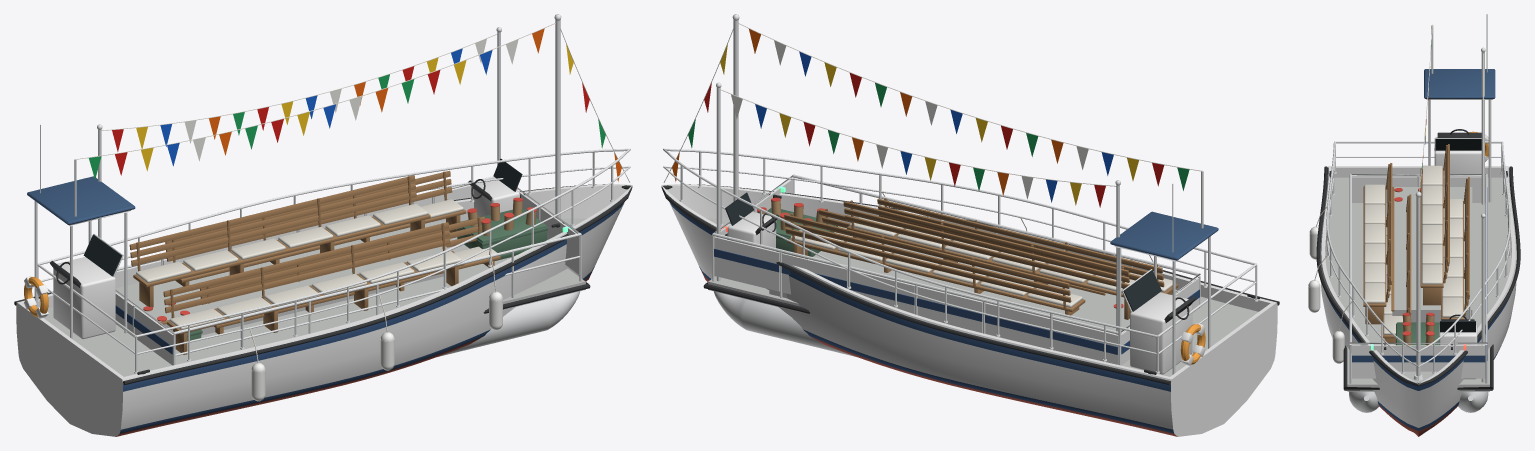
Rendered from spectator_boats.glb.
3 renders of one model, left to right at view 1: azimuth 30°, elevation 25°; view 2: azimuth 150°, elevation 25°; view 3: azimuth 270°, elevation 25°, orthographic. The views are drawn at different scales.
Parts seen in each view (by area): view 1: Launch_Hull, Launch_Teak, Launch_Steel, Pontoon_Teak, Launch_Cushion, Pontoon_HullWhite, Launch_Deck, Pontoon_Steel, Launch_HullWhite, Launch_Flags, Launch_Trim, Launch_Canvas (+10 smaller); view 2: Launch_Hull, Launch_Steel, Pontoon_HullWhite, Launch_Teak, Pontoon_Teak, Pontoon_Steel, Launch_HullWhite, Launch_Deck, Launch_Flags, Launch_Trim, Pontoon_Stripe, Launch_Canvas (+9 smaller); view 3: Launch_Hull, Launch_Steel, Launch_Cushion, Pontoon_HullWhite, Launch_Teak, Launch_Deck, Pontoon_Steel, Pontoon_Cushion, Launch_Trim, Launch_Canvas, Pontoon_Deck, Pontoon_Teak (+10 smaller).
Part boxes in pixels (x1,y1,x2,y2): Launch_Hull: [16, 184, 632, 436]; Launch_Teak: [129, 175, 464, 354]; Launch_Steel: [34, 14, 630, 373]; Pontoon_Teak: [165, 170, 500, 334]; Launch_Cushion: [136, 203, 461, 329]; Pontoon_HullWhite: [114, 177, 579, 365]; Launch_Deck: [115, 227, 451, 335]; Pontoon_Steel: [97, 27, 581, 365]; Launch_HullWhite: [24, 257, 115, 339]; Launch_Flags: [88, 28, 621, 181]; Launch_Trim: [14, 184, 632, 384]; Launch_Canvas: [27, 176, 135, 224]; Launch_Hull: [661, 184, 1277, 436]; Launch_Steel: [663, 14, 1258, 374]; Pontoon_HullWhite: [714, 179, 1199, 365]; Launch_Teak: [843, 198, 1178, 319]; Pontoon_Teak: [784, 208, 1105, 315]; Pontoon_Steel: [712, 82, 1200, 349]; Launch_HullWhite: [1130, 292, 1205, 374]; Launch_Deck: [825, 240, 1129, 334]; Launch_Flags: [672, 29, 1189, 190]; Launch_Trim: [661, 184, 1279, 384]; Pontoon_Stripe: [714, 248, 1199, 354]; Launch_Canvas: [1110, 211, 1218, 260]; Launch_Hull: [1320, 166, 1516, 436]; Launch_Steel: [1325, 14, 1511, 380]; Launch_Cushion: [1364, 165, 1442, 303]; Pontoon_HullWhite: [1352, 176, 1485, 379]; Launch_Teak: [1363, 144, 1449, 324]; Launch_Deck: [1392, 187, 1472, 322]; Pontoon_Steel: [1349, 47, 1487, 383]; Pontoon_Cushion: [1383, 199, 1462, 334]; Launch_Trim: [1316, 129, 1520, 386]; Launch_Canvas: [1424, 69, 1495, 98]; Pontoon_Deck: [1347, 220, 1489, 391]; Pontoon_Teak: [1382, 177, 1469, 344].
Size of the model in its own units: 10.18 by 4.97 by 3.87.
